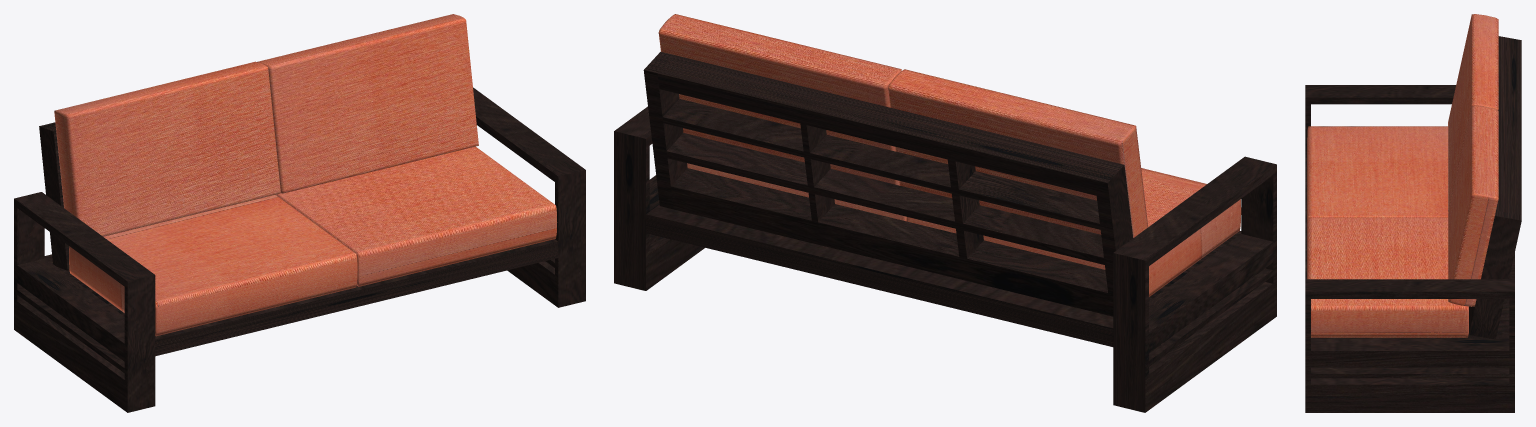
File: parasona.obj
3 renders of one model, left to right at view 1: azimuth 30°, elevation 25°; view 2: azimuth 150°, elevation 25°; view 3: azimuth 270°, elevation 25°, orthographic. The views are drawn at different scales.
Parts seen in each view (by area): view 1: Cube.006_Cube.036, Cube.007_Cube.037, Cube.005_Cube.035, Cube.004_Cube.033, Cube.002_Cube.005, Cube.001_Cube.004, Cube, Cube.003_Cube.026; view 2: Cube.003_Cube.026, Cube.002_Cube.005, Cube.001_Cube.004, Cube.006_Cube.036, Cube.007_Cube.037, Cube, Cube.004_Cube.033, Cube.005_Cube.035; view 3: Cube, Cube.005_Cube.035, Cube.004_Cube.033, Cube.003_Cube.026, Cube.007_Cube.037, Cube.006_Cube.036, Cube.002_Cube.005, Cube.001_Cube.004.
Part boxes in pixels (box(x1,y1,x2,y2)): Cube.006_Cube.036: box(54, 61, 280, 236); Cube.007_Cube.037: box(257, 14, 478, 193); Cube.005_Cube.035: box(276, 146, 557, 286); Cube.004_Cube.033: box(69, 195, 357, 336); Cube.002_Cube.005: box(14, 192, 155, 412); Cube.001_Cube.004: box(44, 239, 558, 356); Cube: box(473, 87, 585, 307); Cube.003_Cube.026: box(39, 122, 69, 270); Cube.003_Cube.026: box(643, 51, 1133, 316); Cube.002_Cube.005: box(1113, 156, 1276, 412); Cube.001_Cube.004: box(646, 204, 1241, 347); Cube.006_Cube.036: box(888, 69, 1148, 237); Cube.007_Cube.037: box(658, 14, 901, 185); Cube: box(614, 106, 704, 290); Cube.004_Cube.033: box(906, 168, 1241, 296); Cube.005_Cube.035: box(687, 163, 906, 221); Cube: box(1305, 279, 1514, 412); Cube.005_Cube.035: box(1307, 217, 1468, 337); Cube.004_Cube.033: box(1307, 126, 1448, 227); Cube.003_Cube.026: box(1469, 36, 1521, 338); Cube.007_Cube.037: box(1448, 105, 1498, 306); Cube.006_Cube.036: box(1448, 14, 1498, 211); Cube.002_Cube.005: box(1305, 85, 1455, 157); Cube.001_Cube.004: box(1305, 157, 1514, 338).
Bounding box in the file's own units: 71.53 × 33.36 × 31.7.
2 materials, 2 textured.
